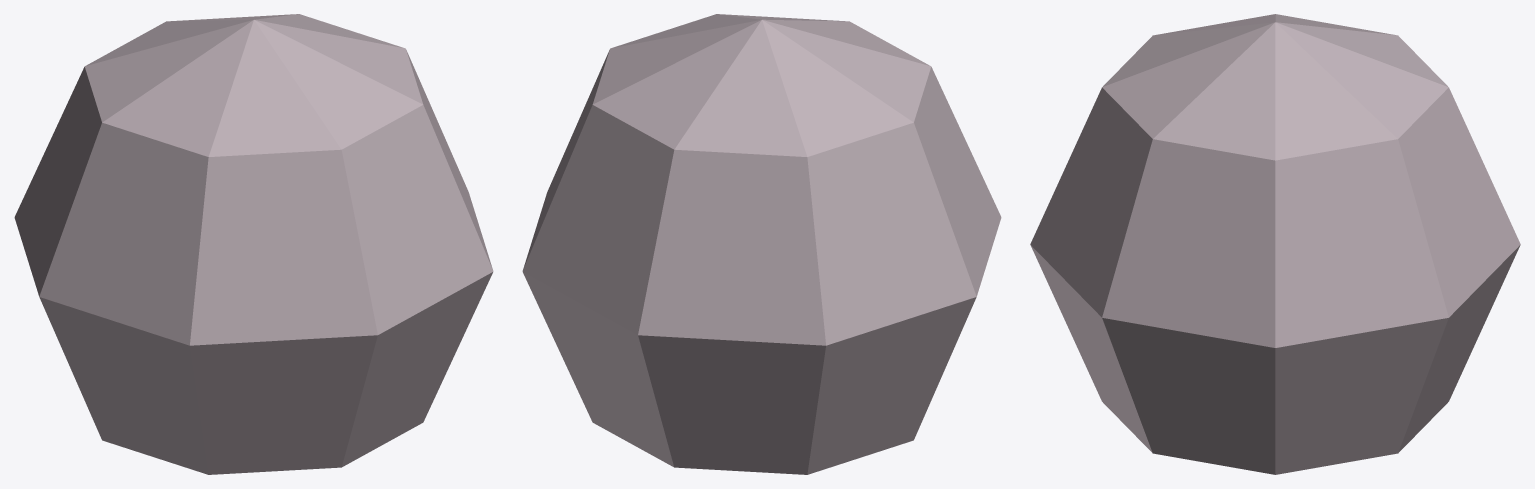
File: obj_sun.gltf
3 renders of one model, left to right at view 1: azimuth 30°, elevation 25°; view 2: azimuth 150°, elevation 25°; view 3: azimuth 270°, elevation 25°, orthographic.
Parts seen in each view (by area): view 1: obj_sun; view 2: obj_sun; view 3: obj_sun.
Part boxes in pixels (<box>): obj_sun: <box>14,14,493,474</box>; obj_sun: <box>522,14,1001,474</box>; obj_sun: <box>1030,14,1520,474</box>.
Bounding box in the file's own units: 2 × 2 × 2.
1 material, 1 textured.
